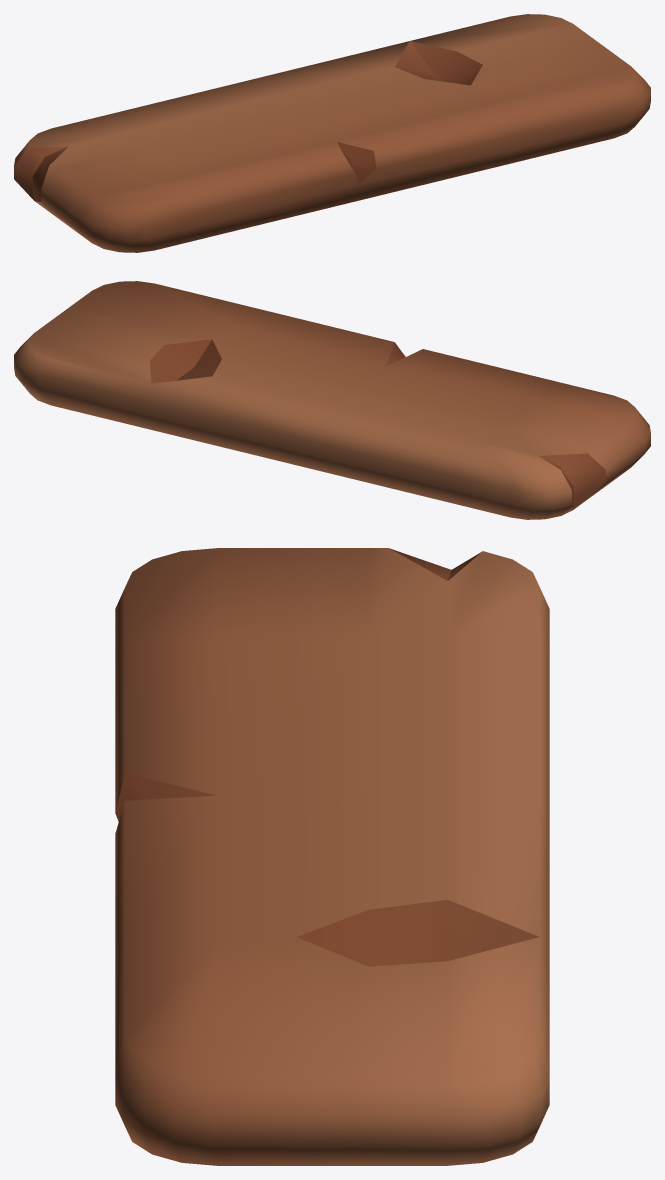
Rendered from Wood_02.fbx.
3 views of the same model, one above another, from view 1: azimuth 30°, elevation 25°; view 2: azimuth 150°, elevation 25°; view 3: azimuth 270°, elevation 25° (orthographic). The views are drawn at different scales.
Visible parts, largest first — view 1: Wood_02; view 2: Wood_02; view 3: Wood_02.
Boxes of the visible parts, x1,y1,x2,y2 form: Wood_02: (14,14,650,252); Wood_02: (14,281,650,519); Wood_02: (115,548,549,1165).
Bounding box in the file's own units: 266 × 20.8 × 88.77.
